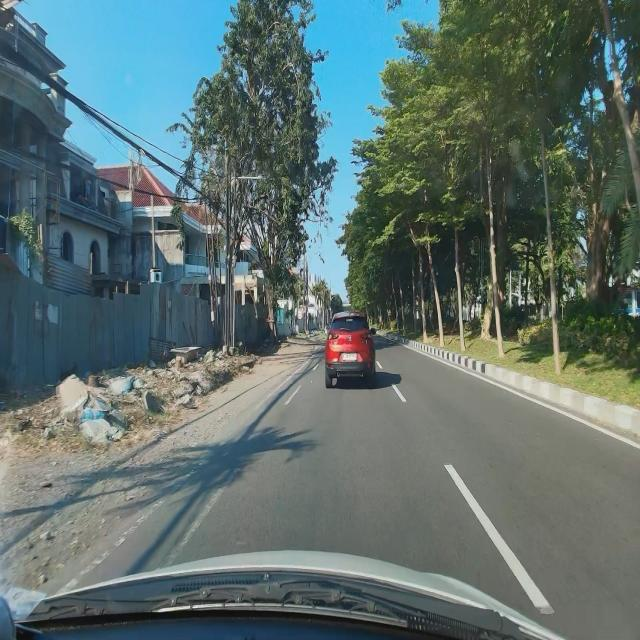car: (324, 311, 378, 390)
license-plate: (342, 352, 358, 362)
